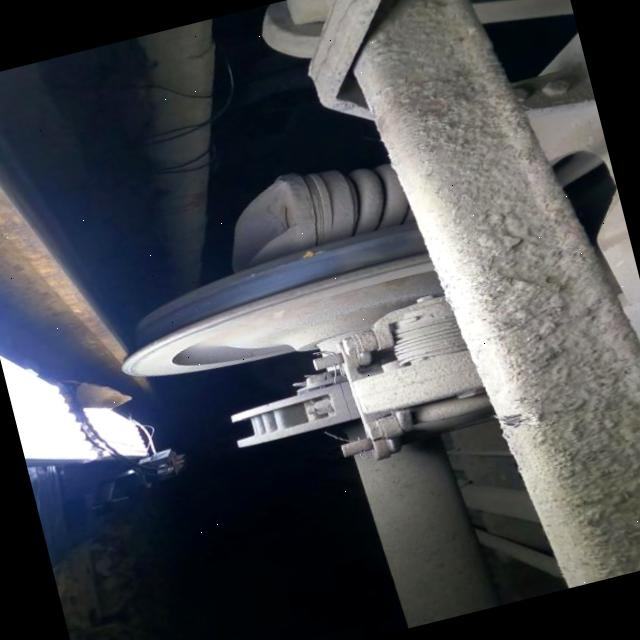Cracks-Scratches: (300, 247, 328, 258)
Shelling: (339, 230, 423, 269)
Wheel: (121, 221, 443, 375)
